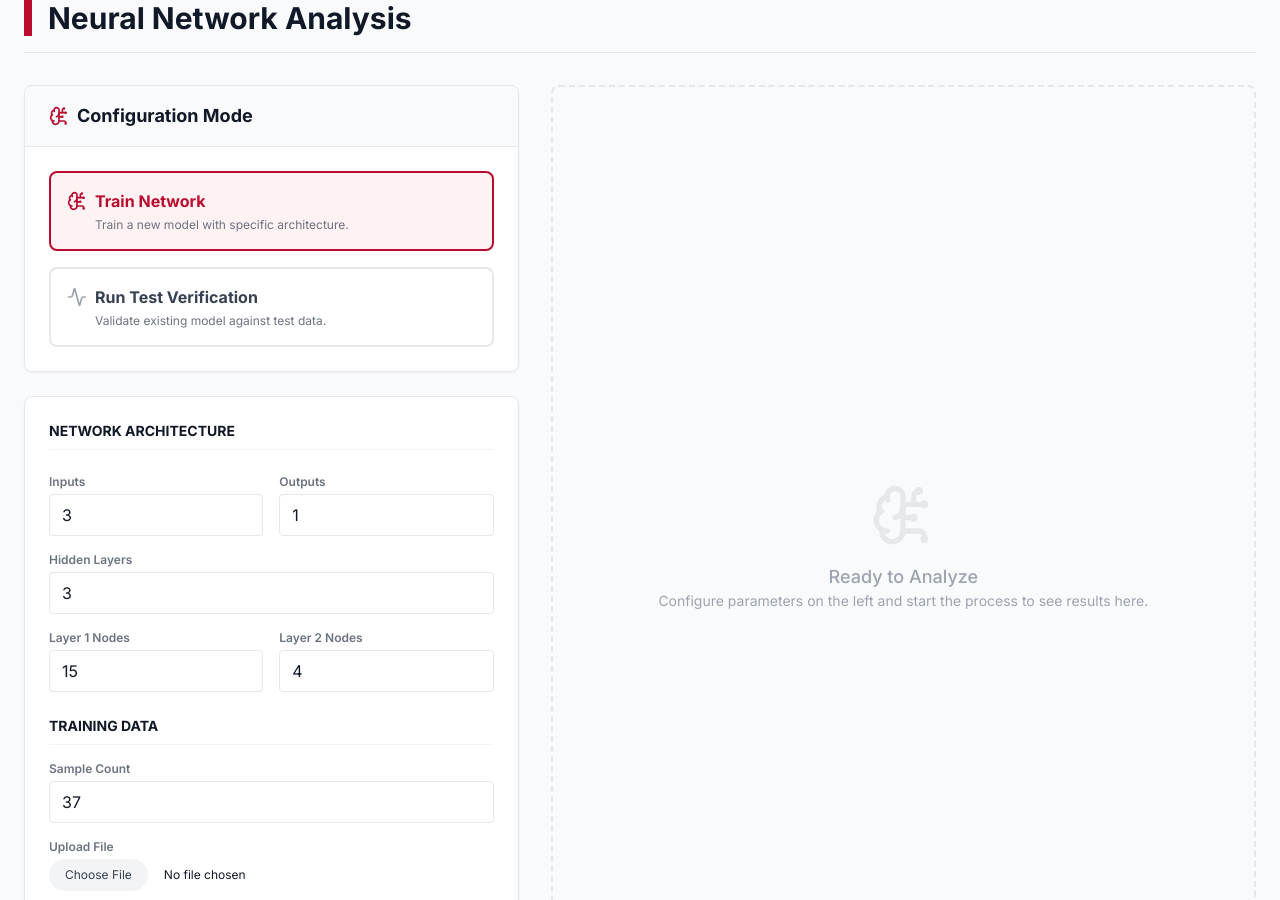
Test: NeuralNetworkForm Component › switches to test mode and updates UI
The width and height of the screenshot is (1280, 900).
Click the text "Run Test Verification".
click(176, 297)  # box [95,285,258,309]
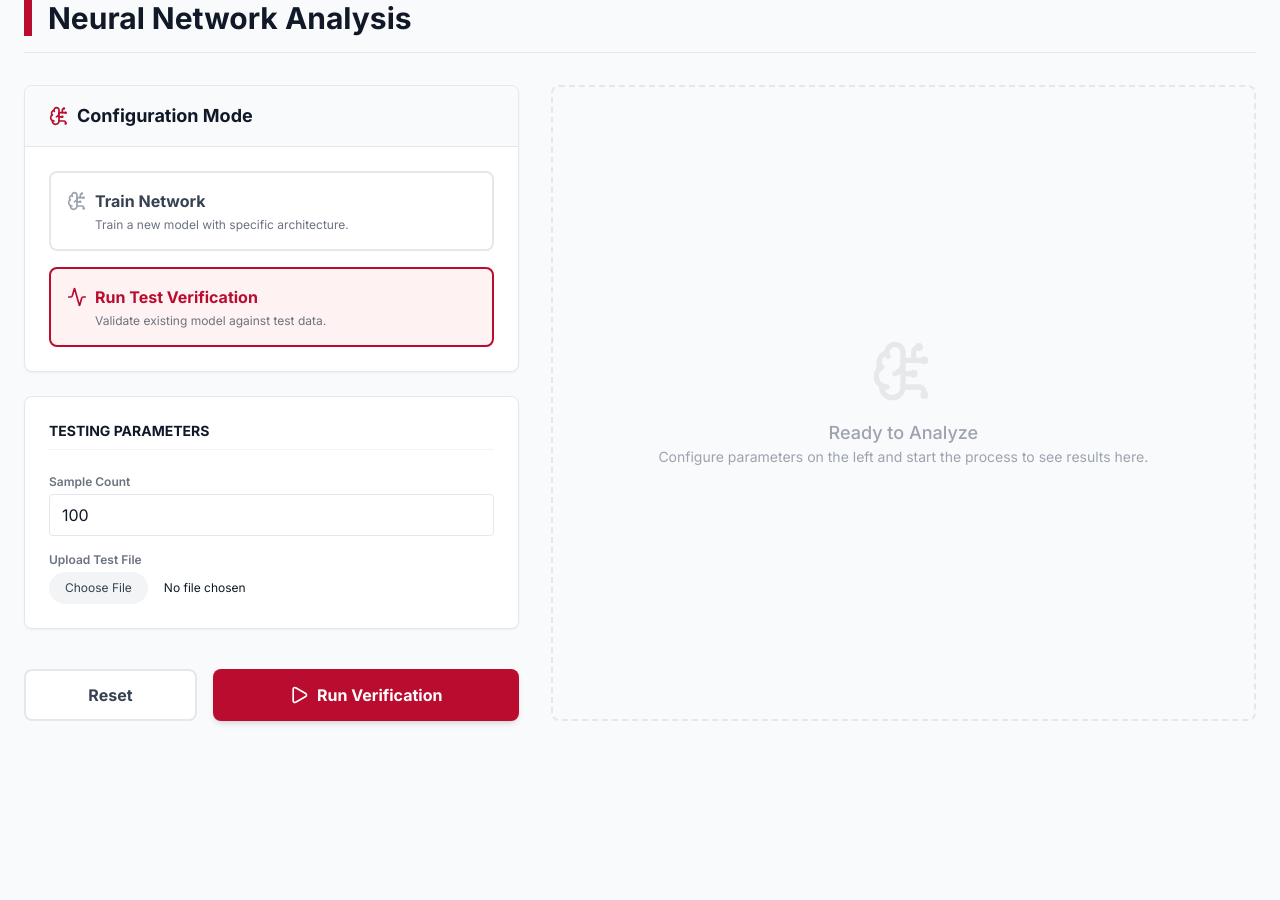
Check: the button "Run Verification" is shown
Click the button "Run Verification".
click(366, 695)  # box [213,669,519,721]
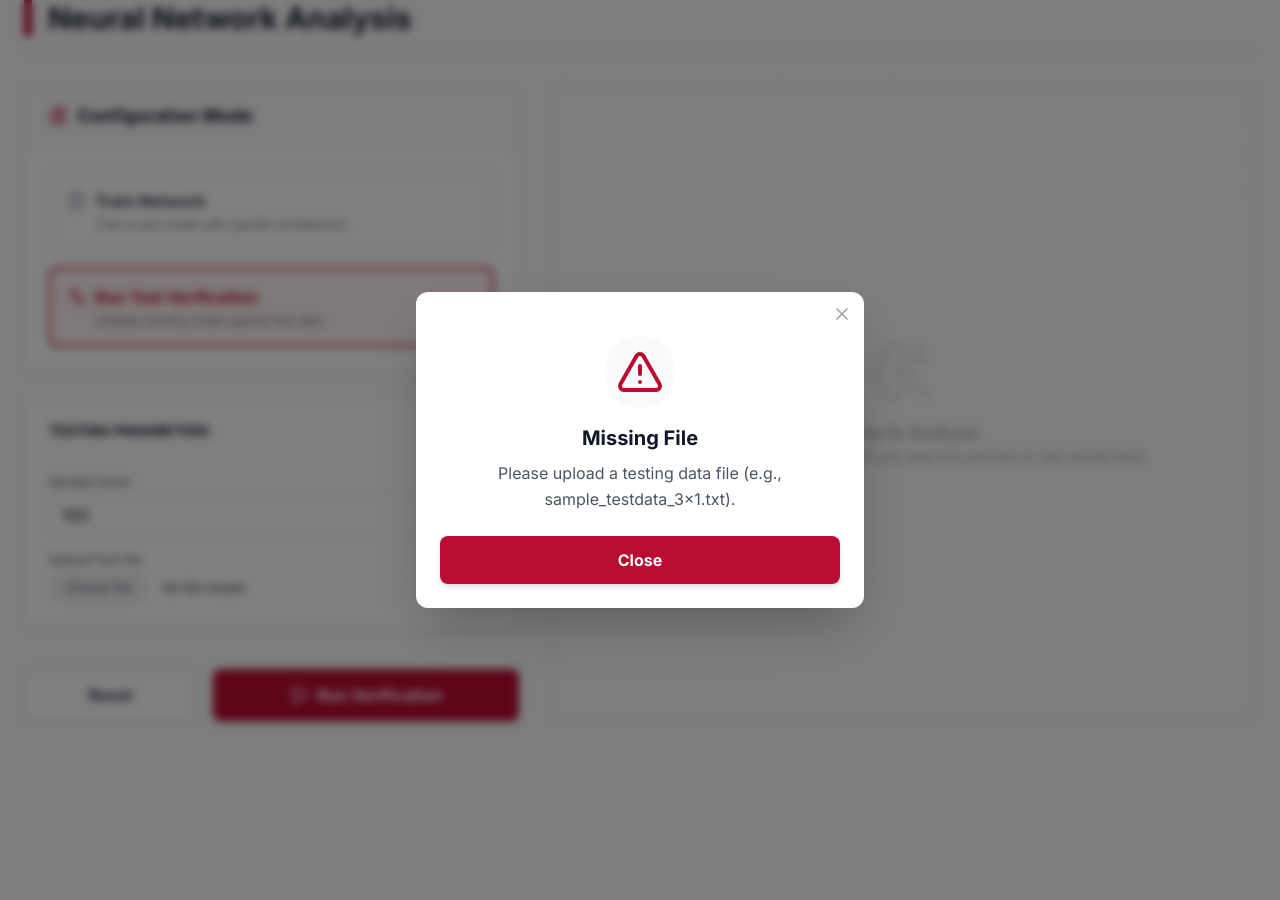
Check: the heading "Missing File" is shown, box [582,424,698,452]
